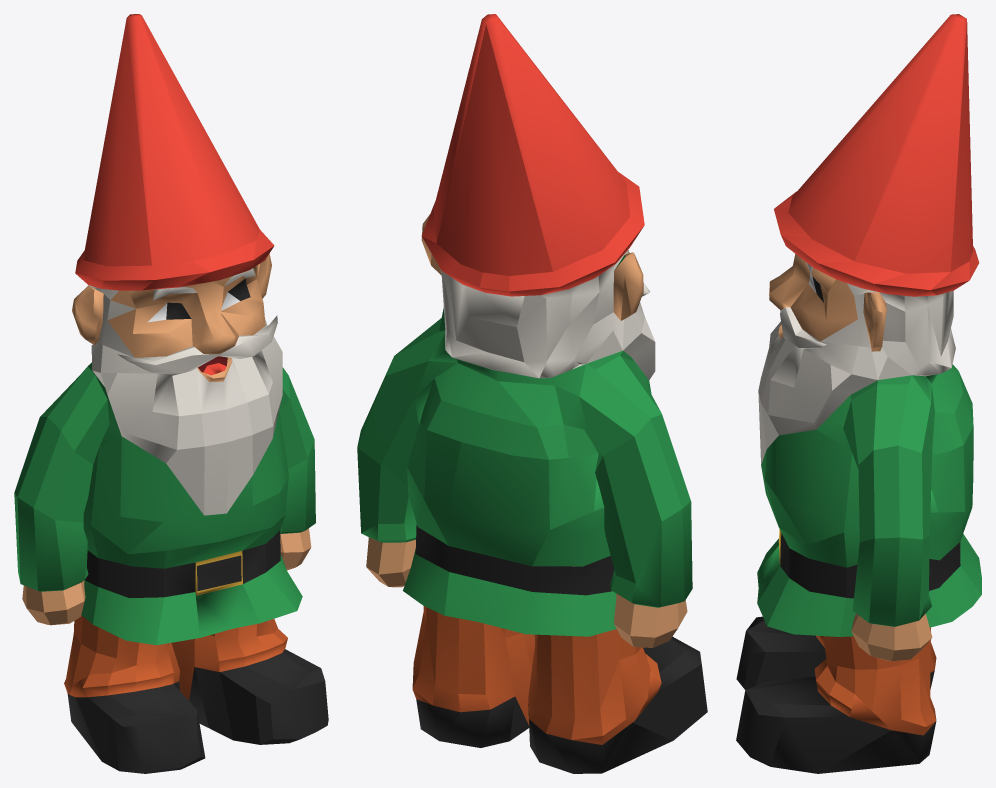
Rendered from gnome.glb.
The picture shows the model from 3 angles, left to right: view 1: azimuth 30°, elevation 25°; view 2: azimuth 150°, elevation 25°; view 3: azimuth 270°, elevation 25°; orthographic projection. The views are drawn at different scales.
Visible parts, largest first — view 1: gnome.copy; view 2: gnome.copy; view 3: gnome.copy.
Part boxes in pixels (left/top/right/bottom): gnome.copy: left=14, top=14, right=328, bottom=773; gnome.copy: left=357, top=14, right=707, bottom=773; gnome.copy: left=736, top=14, right=981, bottom=773.
Size of the model in its own units: 0.5228 by 1.17 by 0.3671.
